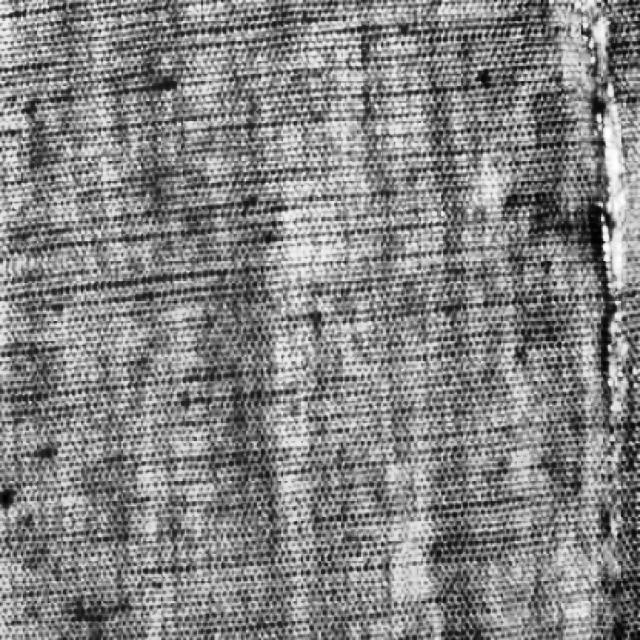thread_error: (555, 0, 640, 640)
